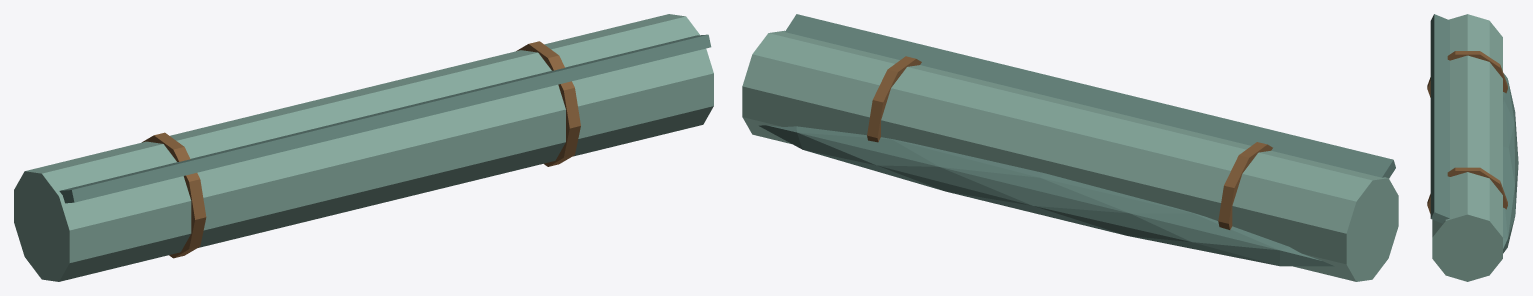
File: bedroll.glb
The picture shows the model from 3 angles, left to right: view 1: azimuth 30°, elevation 25°; view 2: azimuth 150°, elevation 25°; view 3: azimuth 270°, elevation 25°; orthographic projection. The views are drawn at different scales.
Parts seen in each view (by area): view 1: bedroll.001; view 2: bedroll.001; view 3: bedroll.001.
Part boxes in pixels (bbox=[...]): bedroll.001: bbox=[14, 14, 713, 281]; bedroll.001: bbox=[742, 14, 1398, 281]; bedroll.001: bbox=[1427, 14, 1518, 281].
Size of the model in its own units: 1.86 by 0.3016 by 0.3577.
